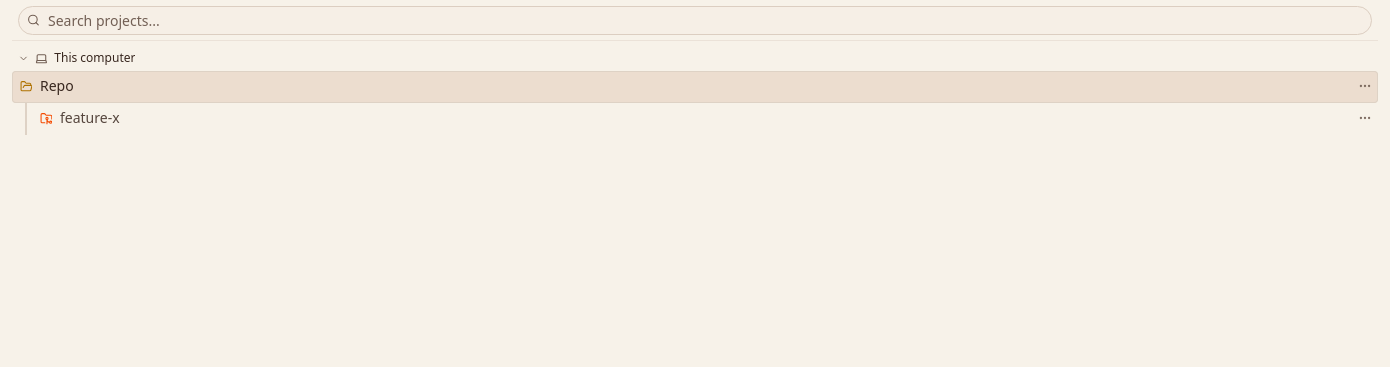
SidebarProjectList — project explorer mode › keeps file-tree and terminal entries off the context menu
Click the 1st button named "More options": [1361, 86] box [1350,75,1372,97]
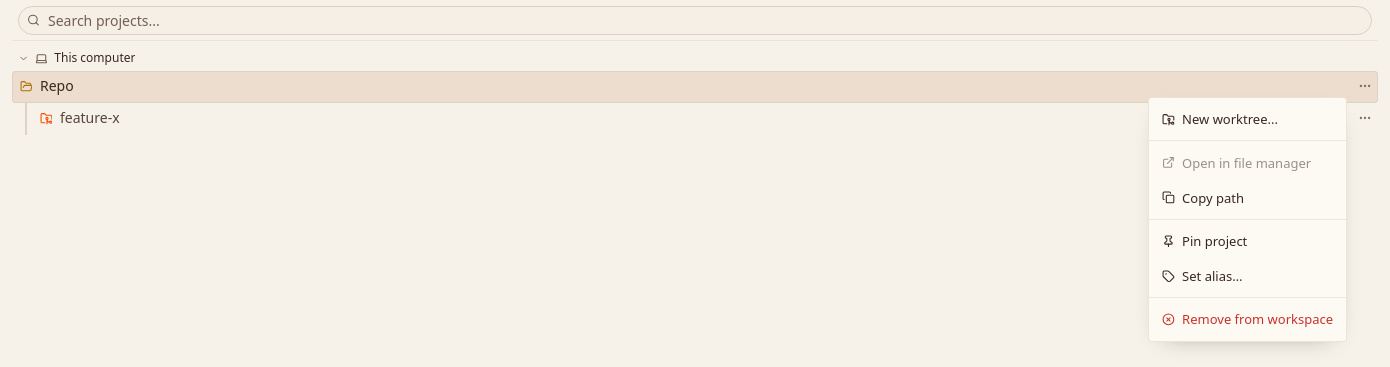
Expected: the text "Pin project" is shown, [1162,232,1247,250]
